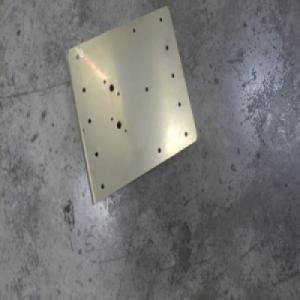MetalSheet: (63, 4, 198, 208)
